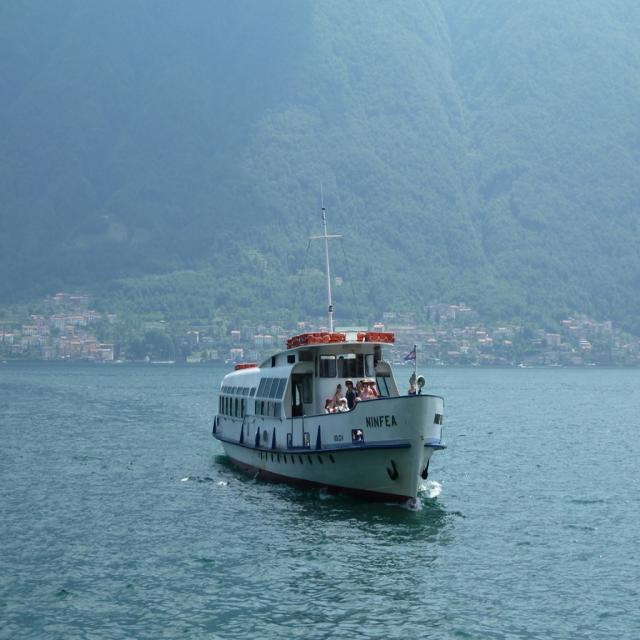fishing boat: (185, 300, 458, 522)
